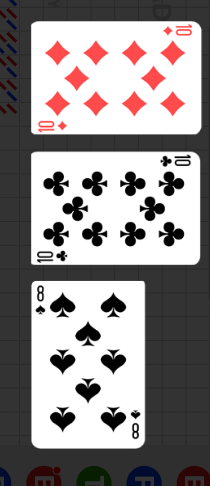10C: (35, 248, 70, 263)
10D: (161, 24, 193, 37)
8S: (129, 407, 142, 440)
